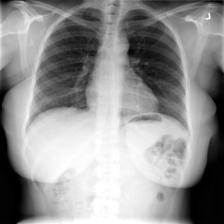normal: (23, 3, 193, 165)
